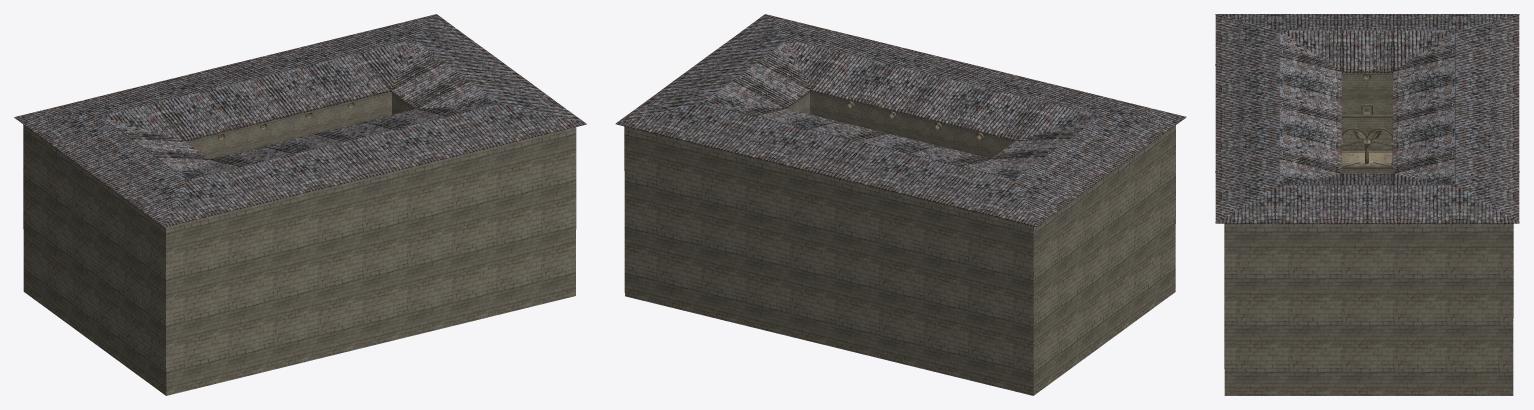
The model's file is sponza_cd.glb.
3 views of the same model, side by side, from view 1: azimuth 30°, elevation 25°; view 2: azimuth 150°, elevation 25°; view 3: azimuth 270°, elevation 25° (orthographic).
Size of the model in its own units: 29.77 by 12.45 by 18.31.
Materials: 25 (25 with a texture image).
